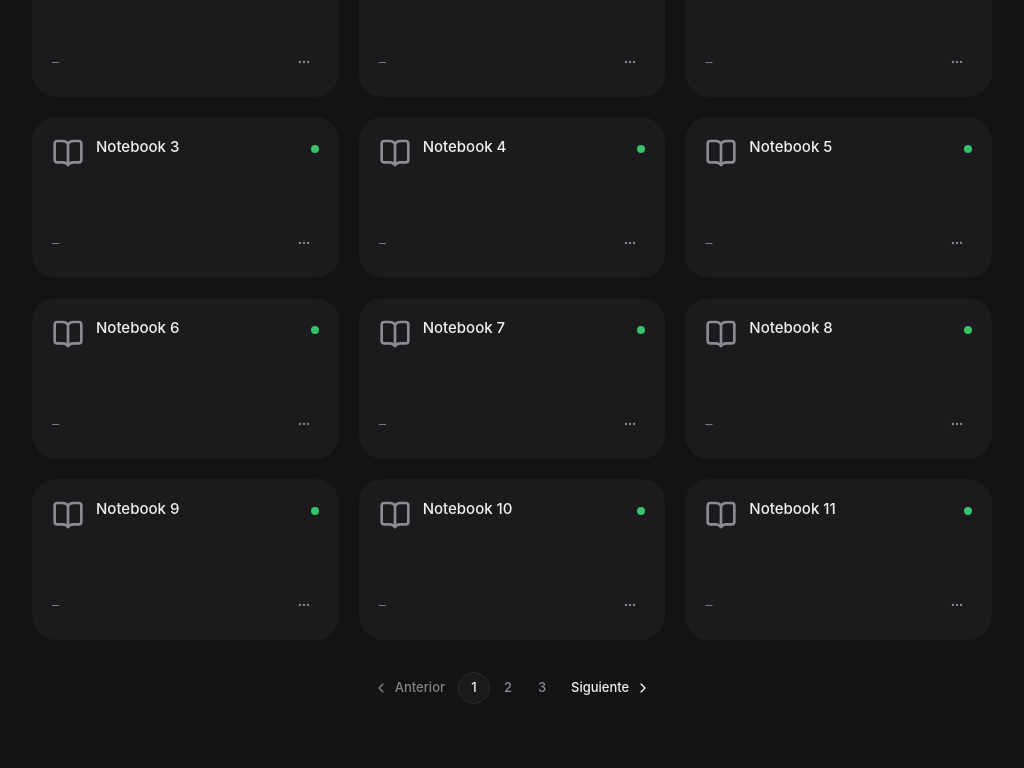
Scenario: buscar vuelve a la página 1 y el total sale del server
(page scrolled)
Click the link "2" at point(508, 687), box left=504, top=679, right=512, bottom=695
(page scrolled)
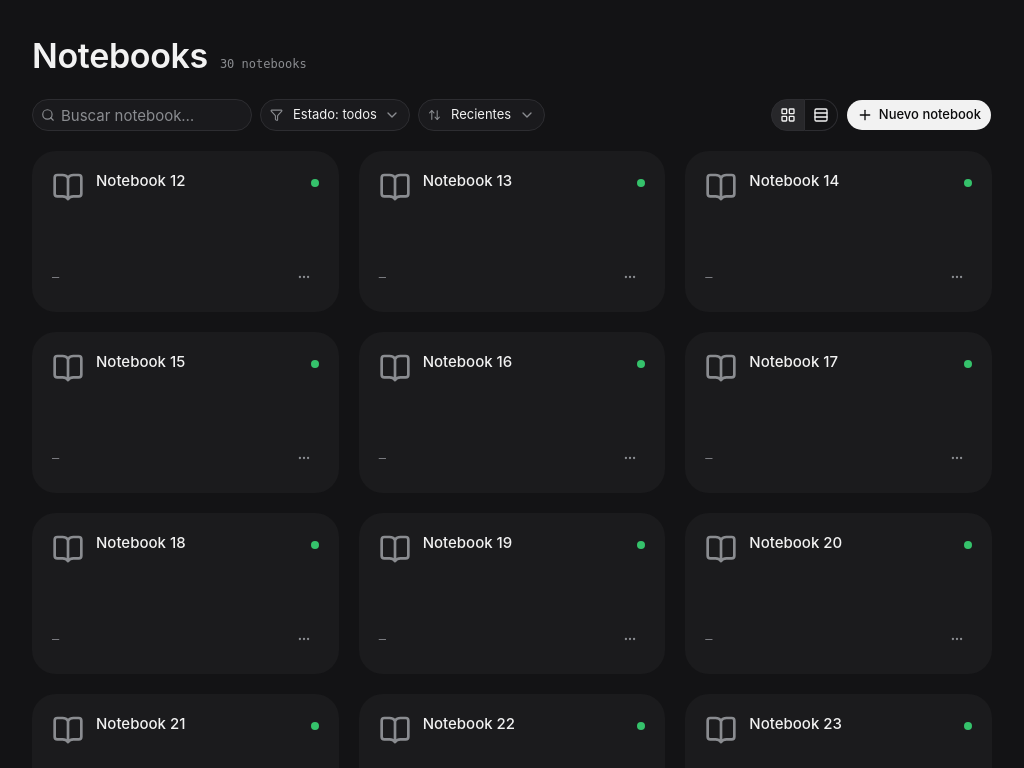
Result: the text "Notebook 12" is shown at left=96, top=171, right=185, bottom=190
Type "Notebook 1" into the field with placeholder "Buscar notebook…" at point(153, 115), box left=55, top=99, right=251, bottom=131
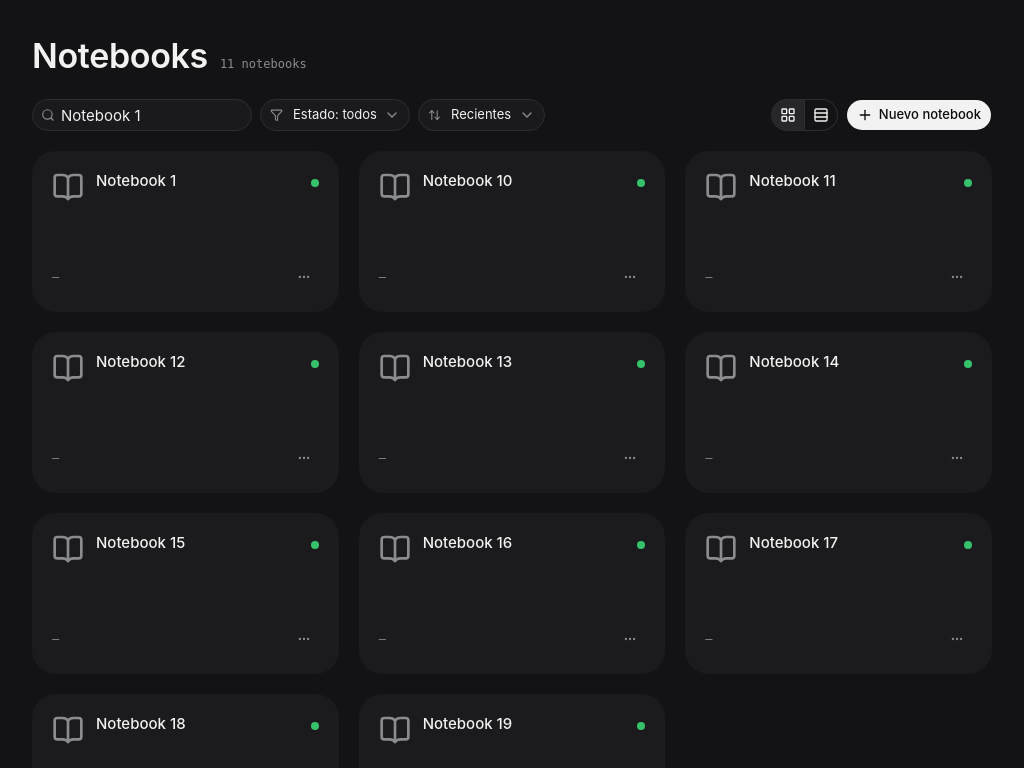
Result: the text "11 notebooks" is shown at left=220, top=56, right=307, bottom=73
